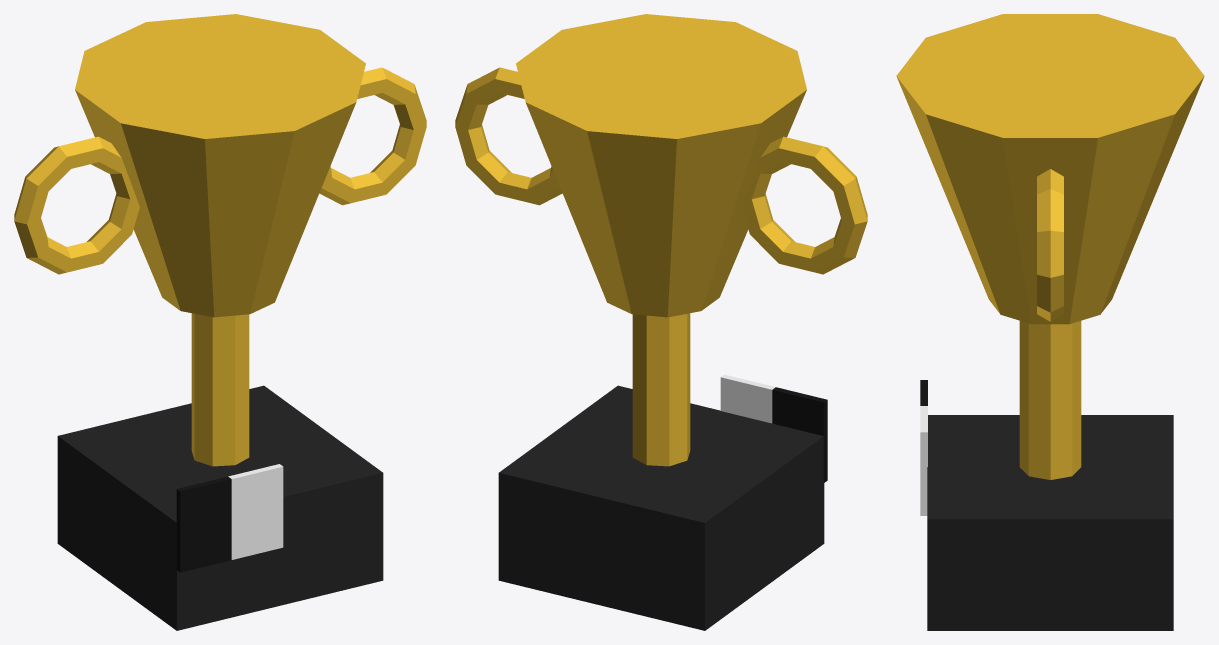
The model's file is tractor_trophy.glb.
3 renders of one model, left to right at view 1: azimuth 30°, elevation 25°; view 2: azimuth 150°, elevation 25°; view 3: azimuth 270°, elevation 25°, orthographic. The views are drawn at different scales.
Visible parts, largest first — view 1: cup_trophy_gold, base_trophy_base, handles_trophy_gold, flag_flag_black (×2), flag_flag_white (×2); view 2: cup_trophy_gold, base_trophy_base, handles_trophy_gold, flag_flag_black, flag_flag_white; view 3: cup_trophy_gold, base_trophy_base, handles_trophy_gold, flag_flag_white.
Boxes of the visible parts, <box> form: cup_trophy_gold: <box>75,14,365,466</box>; base_trophy_base: <box>57,385,383,630</box>; handles_trophy_gold: <box>14,67,426,274</box>; flag_flag_black (×2): <box>176,476,231,572</box>; flag_flag_white (×2): <box>228,464,283,559</box>; cup_trophy_gold: <box>516,14,806,466</box>; base_trophy_base: <box>498,385,824,630</box>; handles_trophy_gold: <box>455,67,867,274</box>; flag_flag_black: <box>772,387,827,442</box>; flag_flag_white: <box>720,374,775,423</box>; cup_trophy_gold: <box>896,14,1204,479</box>; base_trophy_base: <box>927,415,1173,630</box>; handles_trophy_gold: <box>1037,169,1063,321</box>; flag_flag_white: <box>920,406,927,473</box>.
Bounding box in the file's own units: 0.32 × 0.36 × 0.2.
